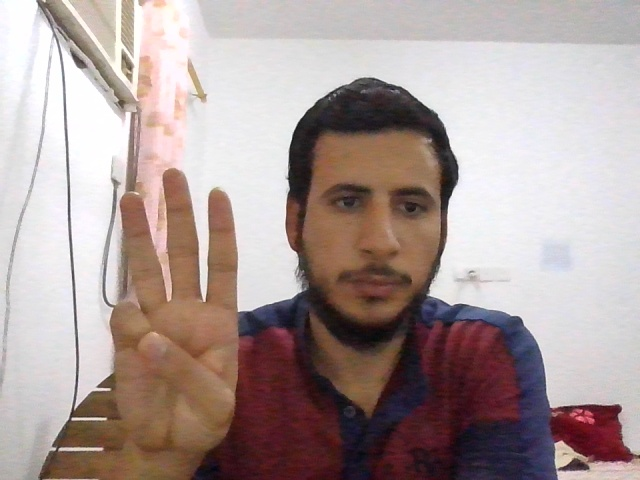Three: (110, 168, 240, 452)
